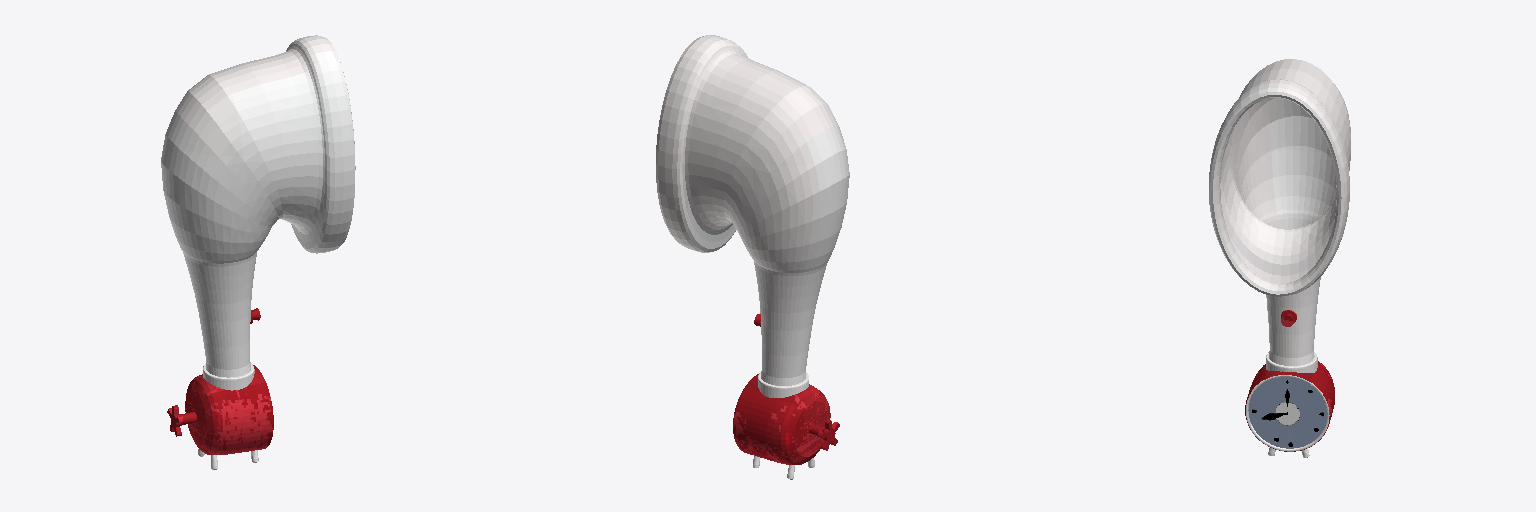
3 renders of one model, left to right at view 1: azimuth 30°, elevation 25°; view 2: azimuth 150°, elevation 25°; view 3: azimuth 270°, elevation 25°, orthographic.
Visible parts, largest first — view 1: pasted__pasted__polySurface1 pasted__group5 group; view 2: pasted__pasted__polySurface1 pasted__group5 group; view 3: pasted__pasted__polySurface1 pasted__group5 group.
Boxes of the visible parts, x1=… form: pasted__pasted__polySurface1 pasted__group5 group: x1=161, y1=35, x2=355, y2=469; pasted__pasted__polySurface1 pasted__group5 group: x1=656, y1=35, x2=849, y2=479; pasted__pasted__polySurface1 pasted__group5 group: x1=1209, y1=59, x2=1350, y2=457.
Bounding box in the file's own units: 1.32 × 3.16 × 1.01.
Materials: 1 (1 with a texture image).